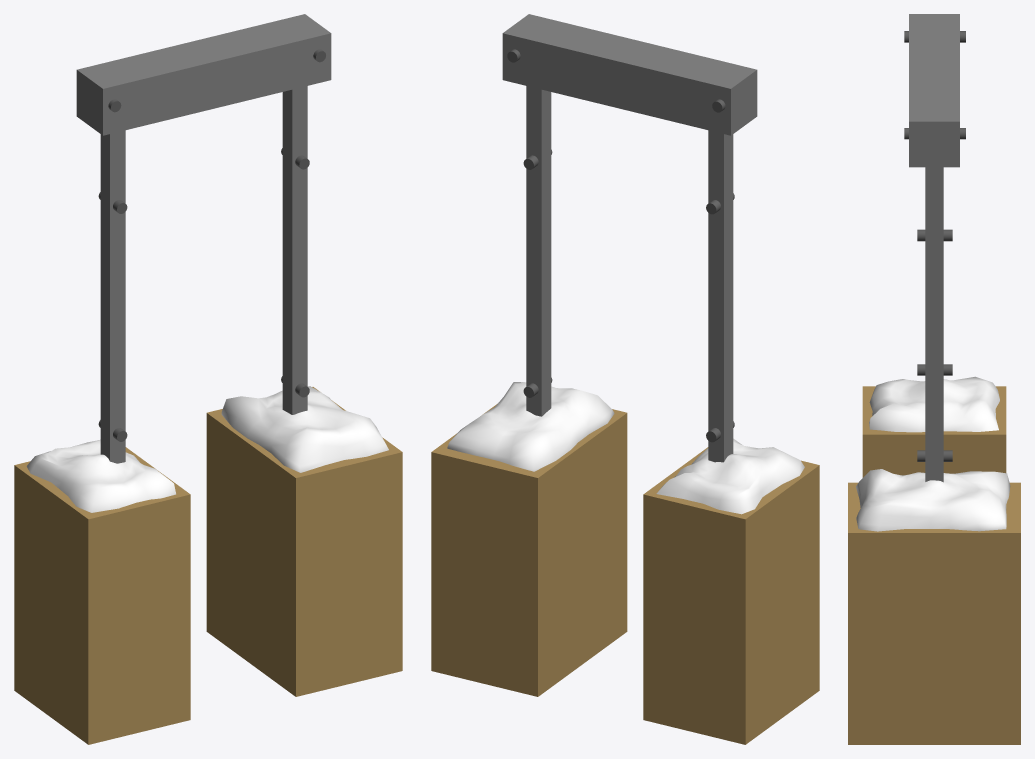
File: Cart Base.fbx
The picture shows the model from 3 angles, left to right: view 1: azimuth 30°, elevation 25°; view 2: azimuth 150°, elevation 25°; view 3: azimuth 270°, elevation 25°; orthographic projection. The views are drawn at different scales.
Parts seen in each view (by area): view 1: pCube2, pCube1, pasted__pCube2 (×3), pSphere2, pSphere3; view 2: pCube2, pCube1, pasted__pCube2 (×3), pSphere2, pSphere3; view 3: pCube2, pasted__pCube2 (×2), pSphere2, pCube1, pSphere3.
Part boxes in pixels (x1,y1,x2,y2): pCube2: [206, 387, 402, 696]; pCube1: [14, 447, 190, 744]; pasted__pCube2 (×3): [76, 14, 331, 463]; pSphere2: [221, 386, 388, 472]; pSphere3: [26, 439, 175, 512]; pCube2: [431, 403, 627, 696]; pCube1: [643, 447, 819, 744]; pasted__pCube2 (×3): [502, 14, 757, 462]; pSphere2: [447, 382, 614, 471]; pSphere3: [656, 438, 804, 514]; pCube2: [848, 482, 1020, 744]; pasted__pCube2 (×2): [909, 14, 959, 482]; pSphere2: [856, 469, 1010, 531]; pCube1: [862, 386, 1006, 477]; pSphere3: [869, 376, 999, 432].
Size of the model in its own units: 7.67 by 15.05 by 3.88.
